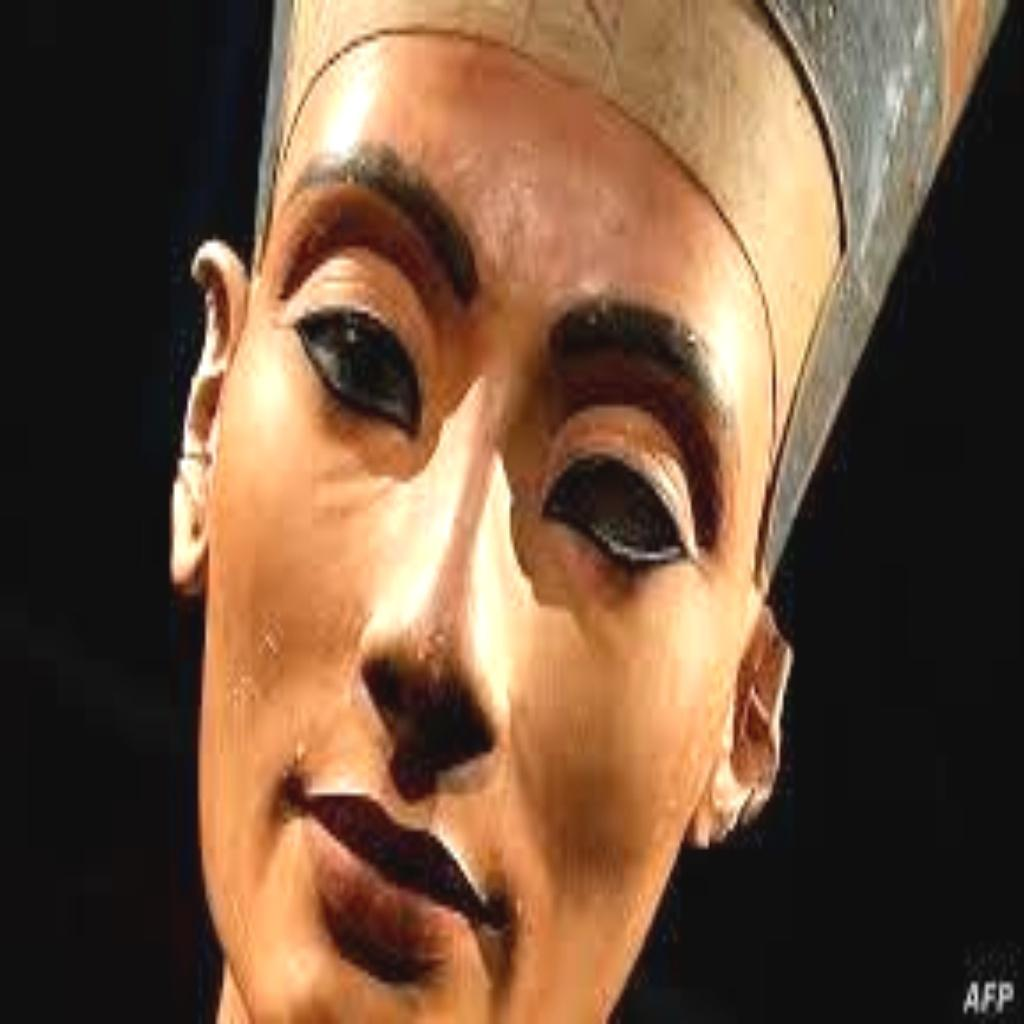Nefertiti: (168, 0, 1015, 1024)
